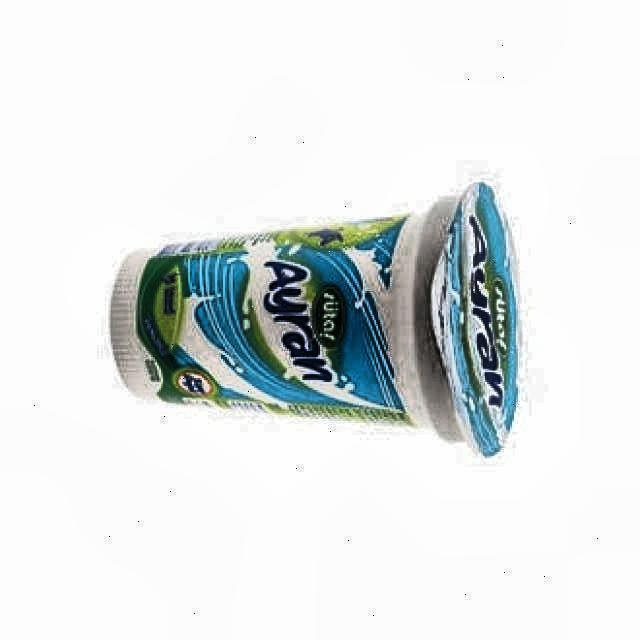plastic: (111, 182, 518, 456)
